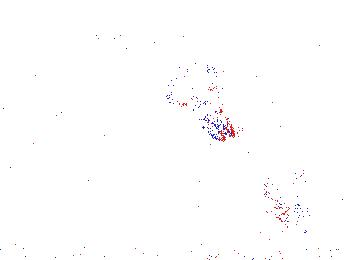flame jellyfish: (164, 57, 235, 142), (275, 173, 346, 227), (265, 166, 315, 219)
